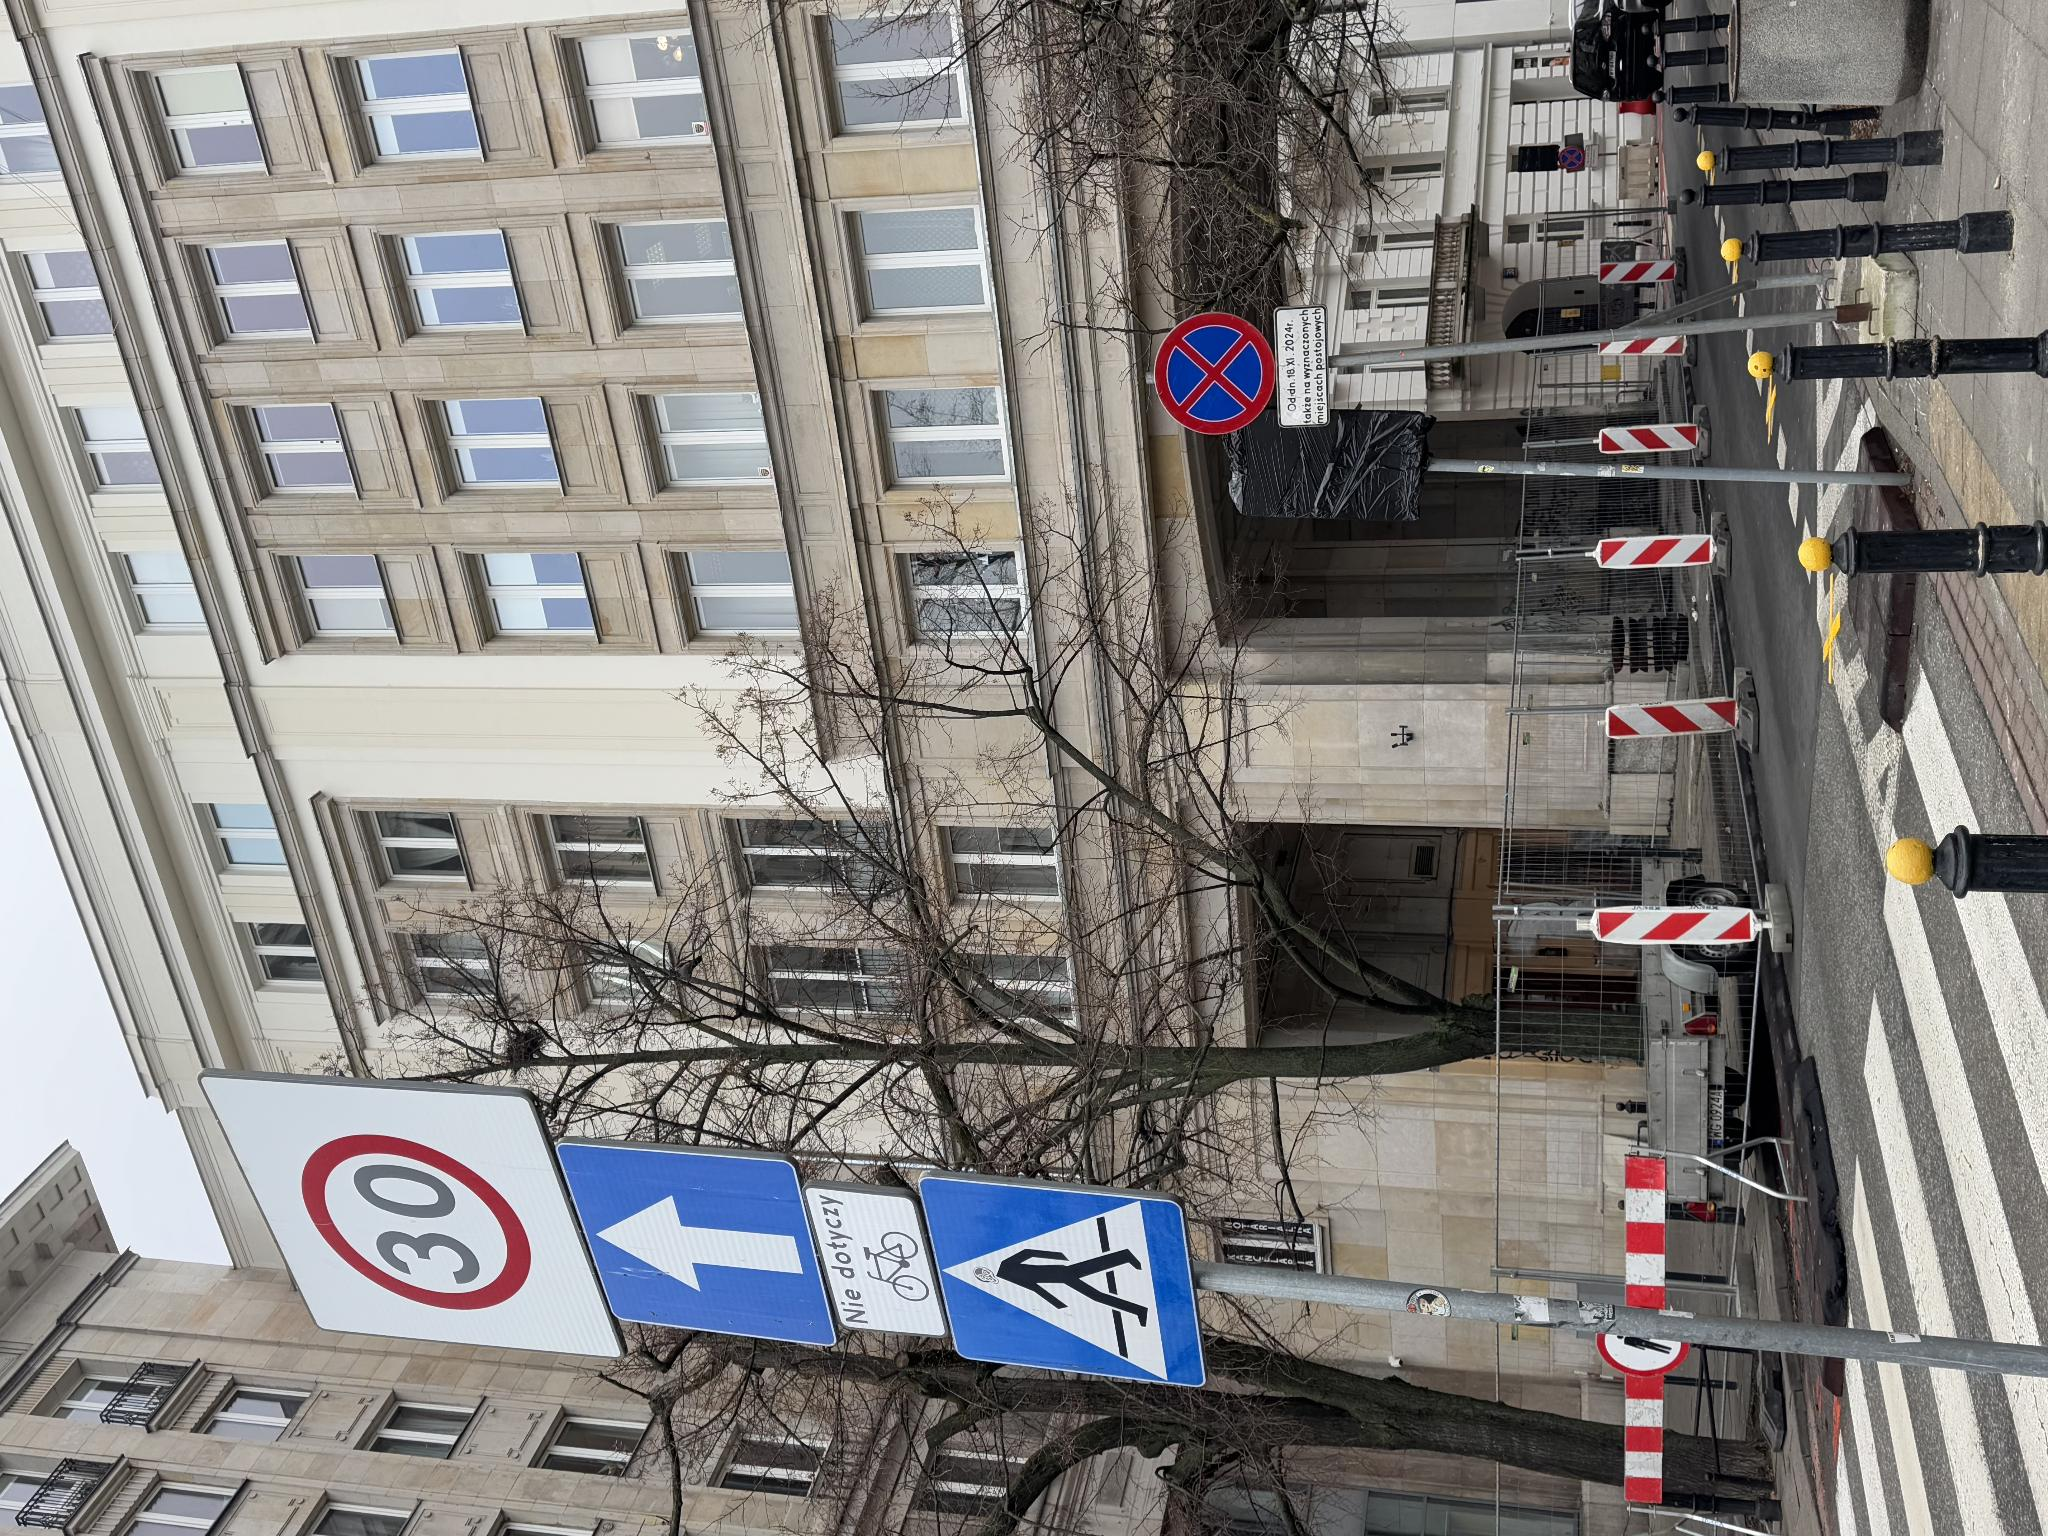information: (150, 918, 363, 1210), (190, 553, 400, 834)
other: (200, 807, 355, 947), (1113, 1276, 1229, 1331)
prohibitory: (226, 300, 405, 534), (1100, 1152, 1226, 1276)
